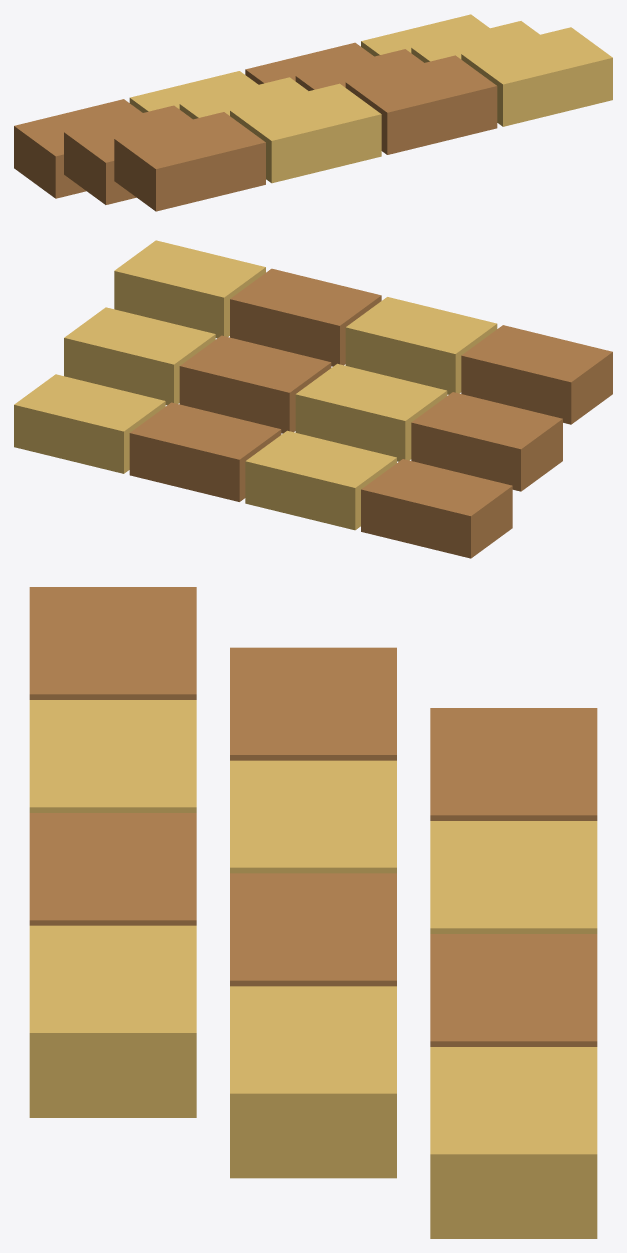
File: metais.glb
3 renders of one model, top to bottom at view 1: azimuth 30°, elevation 25°; view 2: azimuth 150°, elevation 25°; view 3: azimuth 270°, elevation 25°, orthographic. The views are drawn at different scales.
Parts seen in each view (by area): view 1: Peça sem inscrição.008, Peça sem inscrição.010, Peça sem inscrição.011, Peça sem inscrição.009, Peça sem inscrição.004, Peça sem inscrição, Peça sem inscrição.001, Peça sem inscrição.002, Peça sem inscrição.005, Peça sem inscrição.003, Peça sem inscrição.006, Peça sem inscrição.007; view 2: Peça sem inscrição, Peça sem inscrição.004, Peça sem inscrição.008, Peça sem inscrição.002, Peça sem inscrição.003, Peça sem inscrição.001, Peça sem inscrição.005, Peça sem inscrição.006, Peça sem inscrição.009, Peça sem inscrição.007, Peça sem inscrição.011, Peça sem inscrição.010; view 3: Peça sem inscrição.011, Peça sem inscrição.003, Peça sem inscrição.007, Peça sem inscrição.004, Peça sem inscrição.005, Peça sem inscrição.006, Peça sem inscrição, Peça sem inscrição.001, Peça sem inscrição.002, Peça sem inscrição.008, Peça sem inscrição.009, Peça sem inscrição.010.
Part boxes in pixels (bbox=[...]): Peça sem inscrição.008: bbox=[114, 112, 265, 211]; Peça sem inscrição.010: bbox=[345, 55, 497, 154]; Peça sem inscrição.011: bbox=[461, 27, 612, 126]; Peça sem inscrição.009: bbox=[230, 83, 381, 183]; Peça sem inscrição.004: bbox=[64, 105, 192, 204]; Peça sem inscrição: bbox=[14, 99, 142, 198]; Peça sem inscrição.001: bbox=[129, 71, 258, 112]; Peça sem inscrição.002: bbox=[245, 42, 373, 84]; Peça sem inscrição.005: bbox=[179, 77, 308, 119]; Peça sem inscrição.003: bbox=[361, 14, 489, 56]; Peça sem inscrição.006: bbox=[295, 49, 423, 90]; Peça sem inscrição.007: bbox=[411, 21, 539, 62]; Peça sem inscrição: bbox=[361, 459, 512, 558]; Peça sem inscrição.004: bbox=[411, 392, 562, 491]; Peça sem inscrição.008: bbox=[461, 325, 612, 424]; Peça sem inscrição.002: bbox=[129, 402, 281, 501]; Peça sem inscrição.003: bbox=[14, 374, 165, 473]; Peça sem inscrição.001: bbox=[245, 430, 396, 530]; Peça sem inscrição.005: bbox=[295, 363, 447, 461]; Peça sem inscrição.006: bbox=[179, 335, 331, 433]; Peça sem inscrição.009: bbox=[345, 297, 497, 394]; Peça sem inscrição.007: bbox=[64, 307, 215, 405]; Peça sem inscrição.011: bbox=[114, 240, 265, 338]; Peça sem inscrição.010: bbox=[230, 268, 381, 366]; Peça sem inscrição.011: bbox=[29, 925, 196, 1117]; Peça sem inscrição.003: bbox=[430, 1047, 597, 1238]; Peça sem inscrição.007: bbox=[230, 986, 396, 1178]; Peça sem inscrição.004: bbox=[230, 647, 396, 760]; Peça sem inscrição.005: bbox=[230, 760, 396, 873]; Peça sem inscrição.006: bbox=[230, 873, 396, 986]; Peça sem inscrição: bbox=[430, 708, 597, 820]; Peça sem inscrição.001: bbox=[430, 821, 597, 933]; Peça sem inscrição.002: bbox=[430, 934, 597, 1046]; Peça sem inscrição.008: bbox=[29, 587, 196, 699]; Peça sem inscrição.009: bbox=[29, 700, 196, 812]; Peça sem inscrição.010: bbox=[29, 813, 196, 925].
Size of the model in its own units: 1.58 by 0.34 by 0.85.
